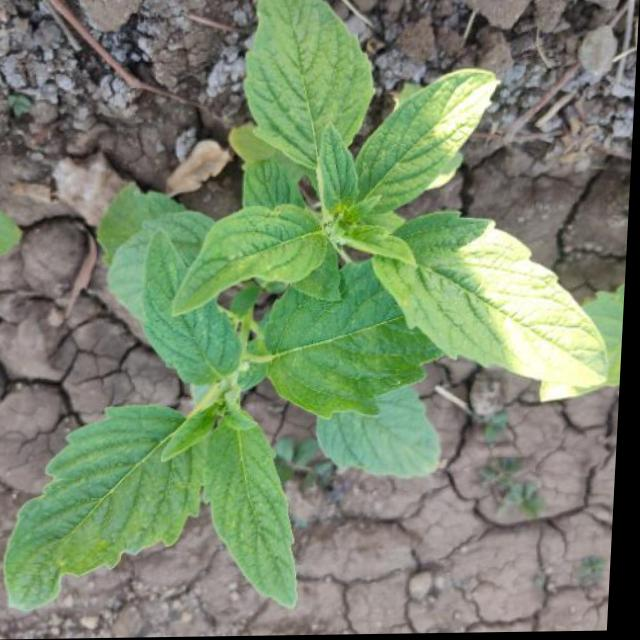crop: (0, 18, 639, 634)
